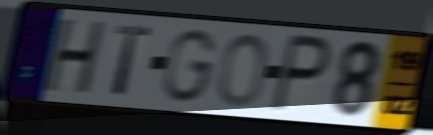8: (329, 39, 382, 120)
G: (160, 27, 221, 105)
H: (41, 17, 110, 98)
O: (216, 31, 271, 110)
P: (269, 31, 334, 116)
T: (111, 22, 153, 99)
